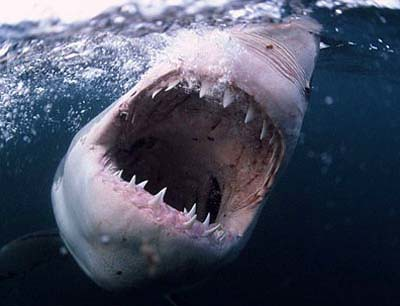shark: (30, 7, 336, 302)
